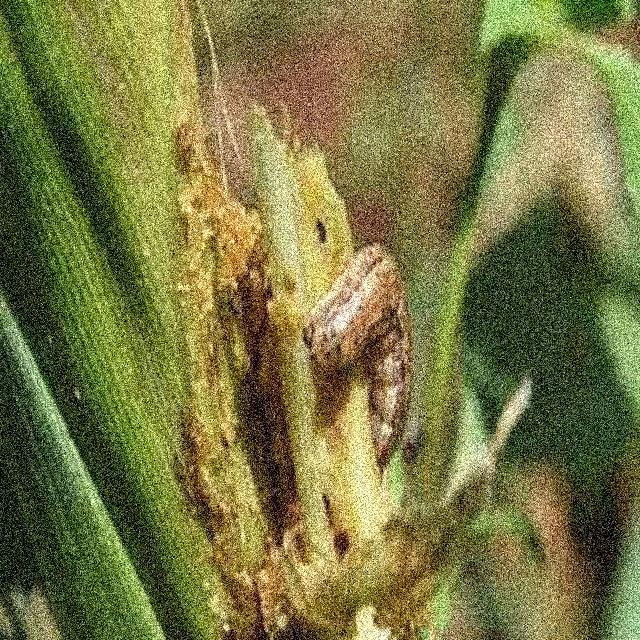Plaga: (308, 244, 416, 475)
